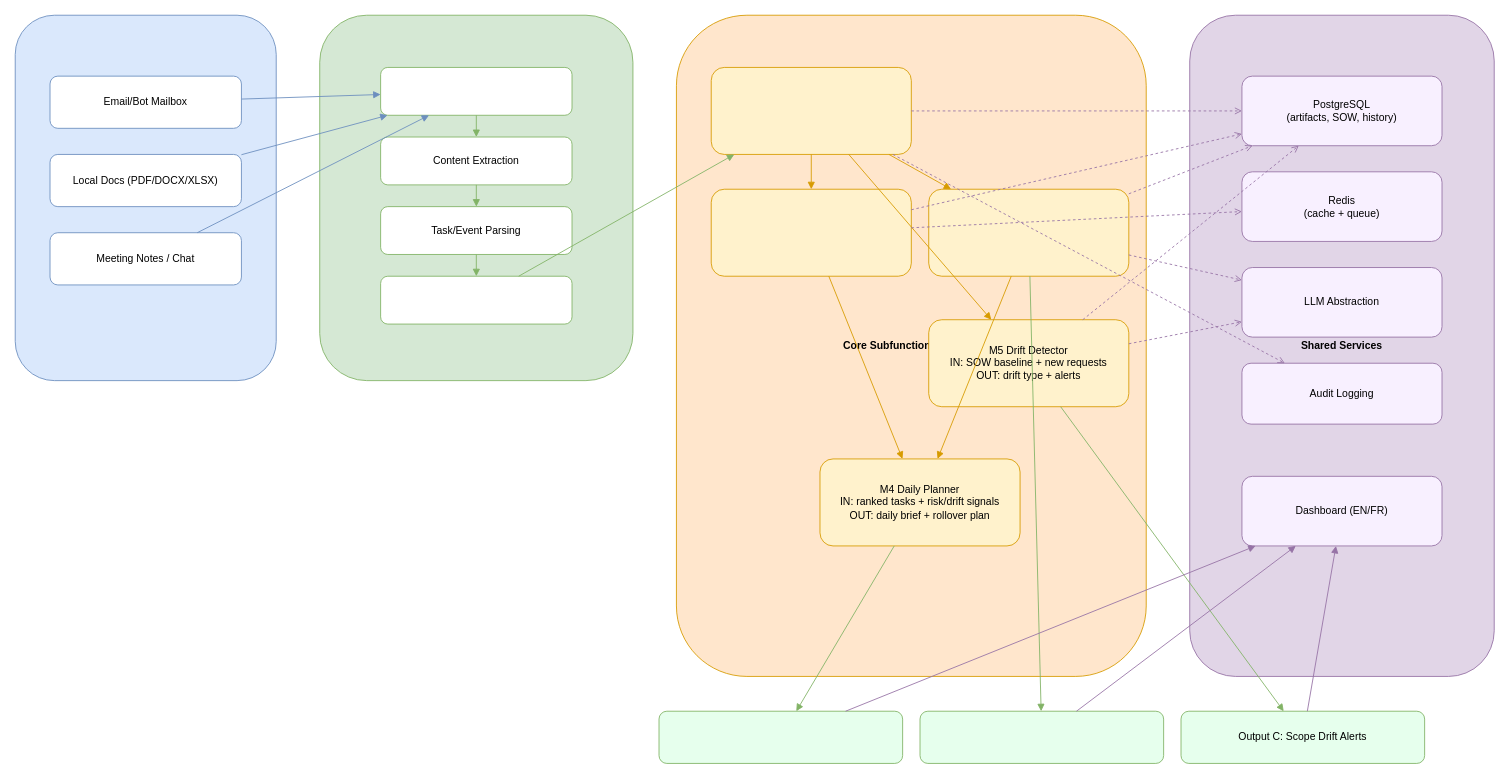
This 1509x779 diagram has some shape labels left out. Each missing label, with the box of its shape:
Format Detection: (380, 67, 572, 115)
Gateway + Normalization: (319, 14, 633, 381)
M1 Ingestion Pipeline IN: raw artifacts OUT: structured artifacts + task pool: (710, 67, 911, 154)
M2 Priority Ranker IN: task pool + deadlines + risks OUT: ranked task list: (710, 188, 911, 276)
M3 Risk Engine IN: artifacts/context OUT: risk scores + evidence links: (928, 188, 1129, 276)
Normalization + Artifact API: (380, 275, 572, 324)
Output A: Prioritized Daily Work: (658, 710, 903, 763)
Output B: Risk Register with Evidence: (919, 710, 1164, 763)
